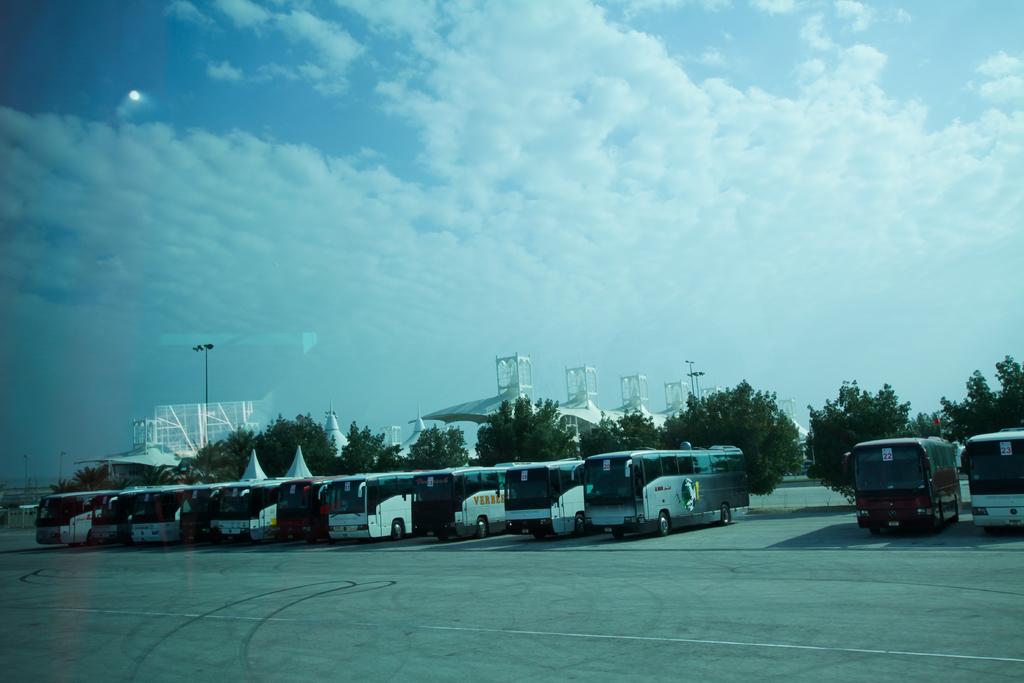Bus: (569, 444, 745, 531), (841, 433, 961, 533), (403, 463, 515, 538), (316, 468, 420, 543), (958, 419, 1023, 535), (504, 458, 593, 538), (102, 484, 213, 547), (13, 485, 119, 545), (211, 469, 296, 540), (278, 473, 346, 538), (178, 477, 232, 543), (90, 488, 136, 535)
